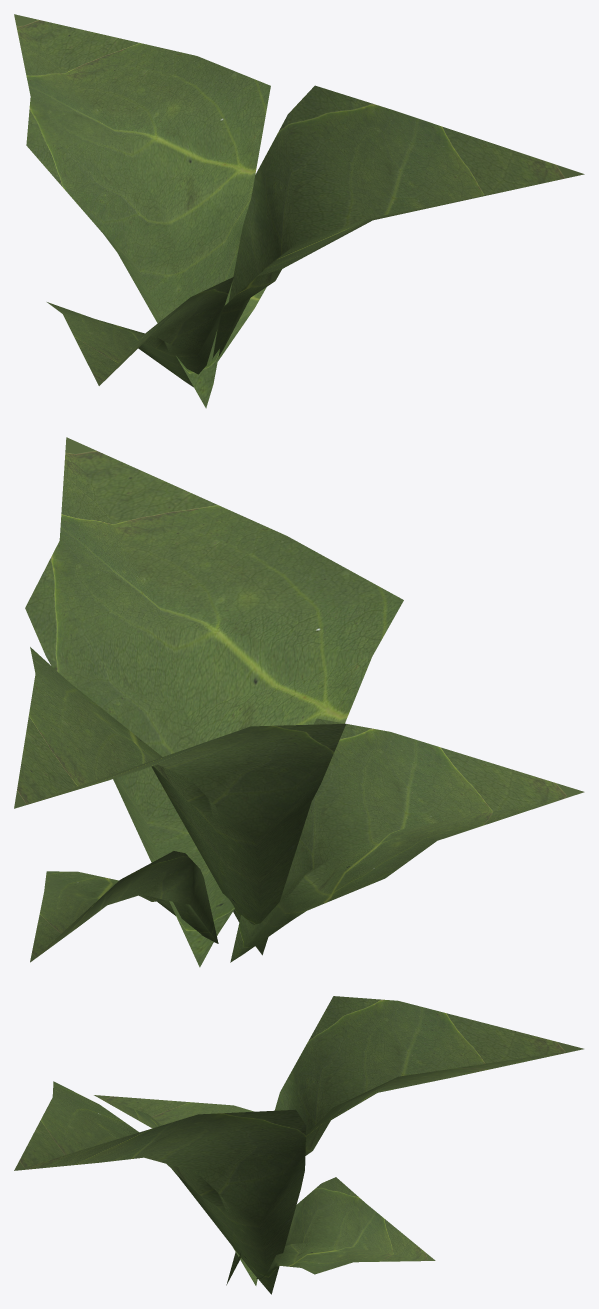
The model's file is planta.obj.
3 views of the same model, one above another, from view 1: azimuth 30°, elevation 25°; view 2: azimuth 150°, elevation 25°; view 3: azimuth 270°, elevation 25° (orthographic). The views are drawn at different scales.
Visible parts, largest first — view 1: Plane01, Plane03, Plane02; view 2: Plane03, Plane01, Plane02, Plane04; view 3: Plane03, Plane01, Plane04, Plane02.
Part boxes in pixels (box(x1,y1,x2,y2)): Plane01: box(14, 14, 270, 408); Plane03: box(212, 85, 584, 358); Plane02: box(47, 277, 233, 387); Plane03: box(25, 437, 403, 967); Plane01: box(14, 647, 345, 955); Plane02: box(230, 718, 584, 962); Plane04: box(30, 851, 218, 962); Plane03: box(14, 1081, 306, 1294); Plane01: box(226, 996, 583, 1285); Plane04: box(256, 1177, 435, 1278); Plane02: box(94, 1095, 257, 1285).
Bounding box in the file's own units: 90.91 × 52.47 × 109.
1 material, 1 textured.
